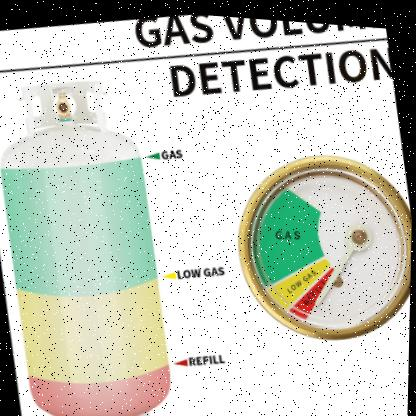gas-tank: (0, 55, 197, 415)
